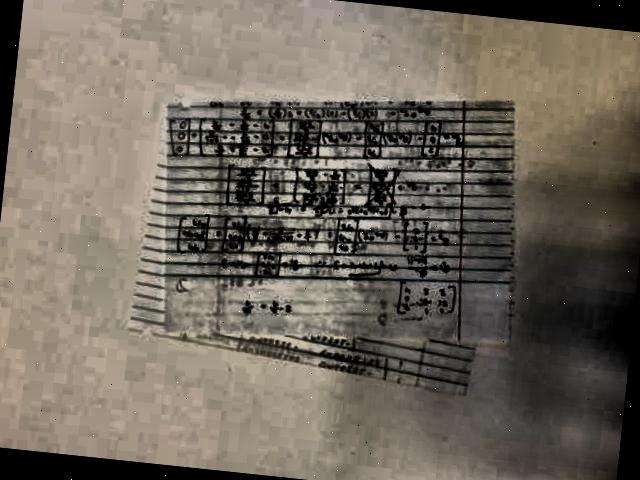Paper: (124, 61, 534, 403)
